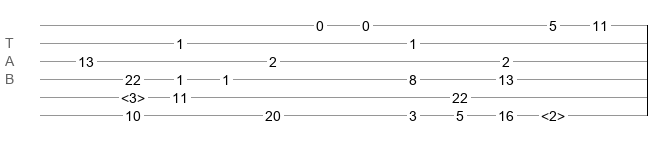0: (316, 18, 324, 28), (362, 18, 370, 28)
1: (176, 36, 184, 46), (176, 72, 184, 82), (222, 72, 230, 82), (409, 36, 417, 46)
10: (125, 108, 141, 118)
11: (172, 90, 188, 100), (592, 18, 608, 28)
13: (78, 54, 94, 64), (498, 72, 514, 82)
16: (498, 108, 514, 118)
2: (269, 54, 277, 64), (502, 54, 510, 64)
20: (265, 108, 281, 118)
22: (125, 72, 141, 82), (452, 90, 468, 100)
3: (409, 108, 417, 118)
5: (456, 108, 464, 118), (549, 18, 557, 28)
8: (409, 72, 417, 82)
harmonic: (121, 90, 145, 100), (541, 108, 565, 118)
